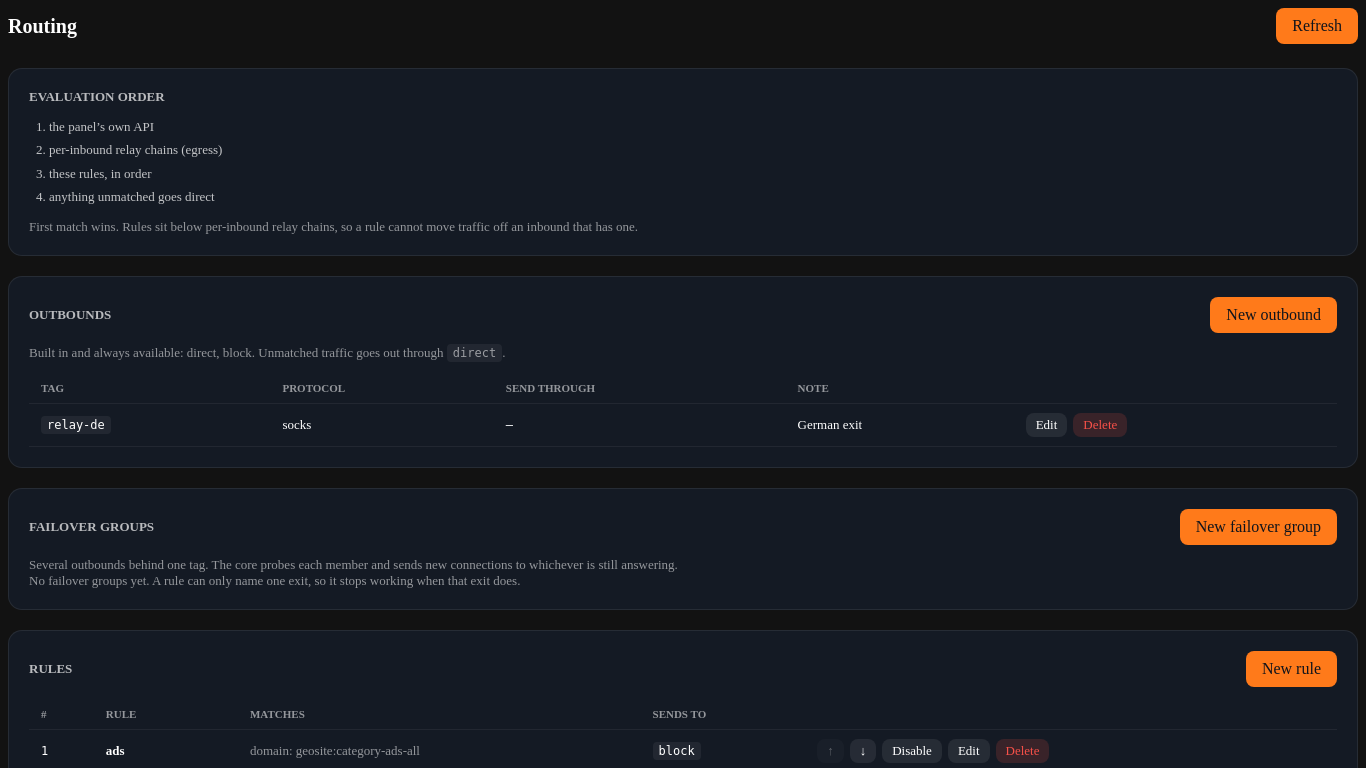
Scenario: RoutingView › refuses to save a rule with no conditions
The image size is (1366, 768).
Expected: the text "ads" is shown, [106,743,125,758]
Click the button with test id "new-rule".
click(1291, 669)  # box [1246,651,1337,687]
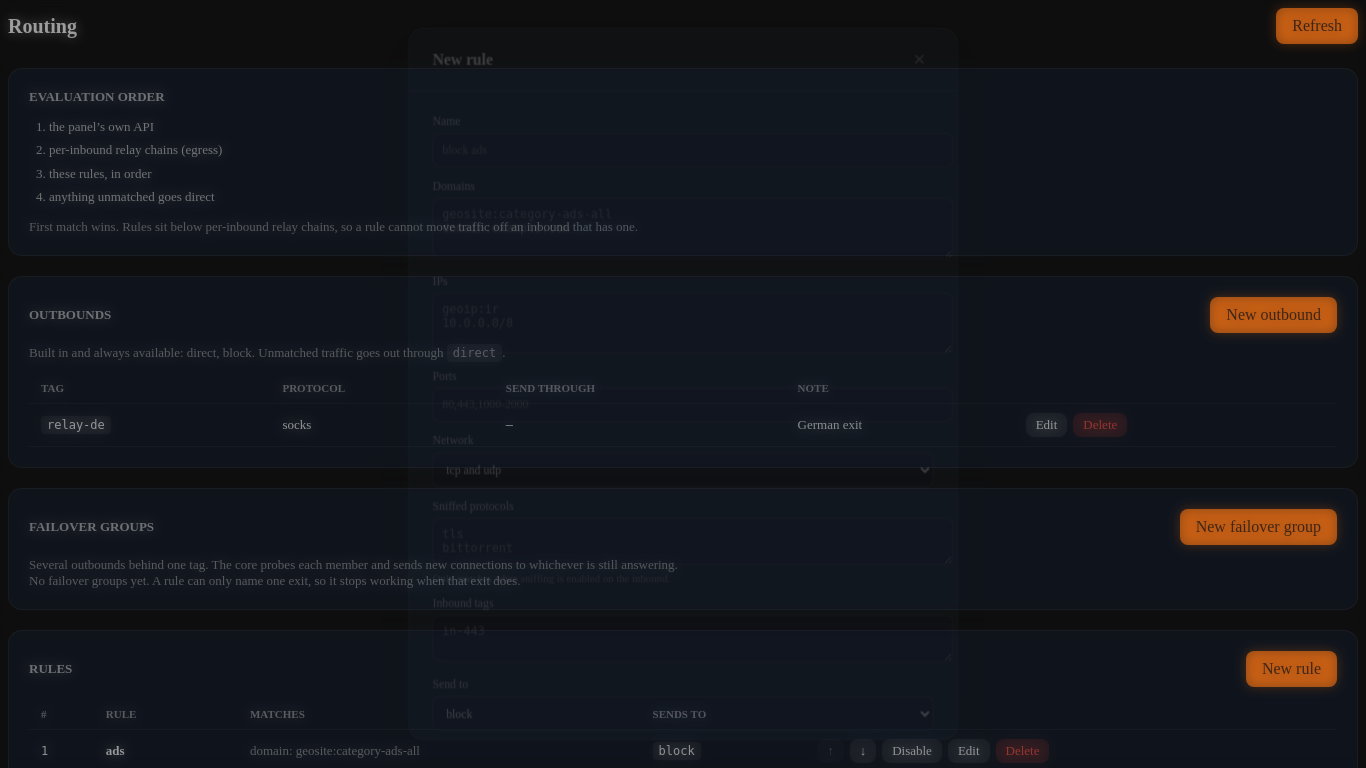
Type "example.com" into the text box with test id "rule-domain".
click(693, 225); type("example.com")  # box [427,194,959,256]
(page scrolled)
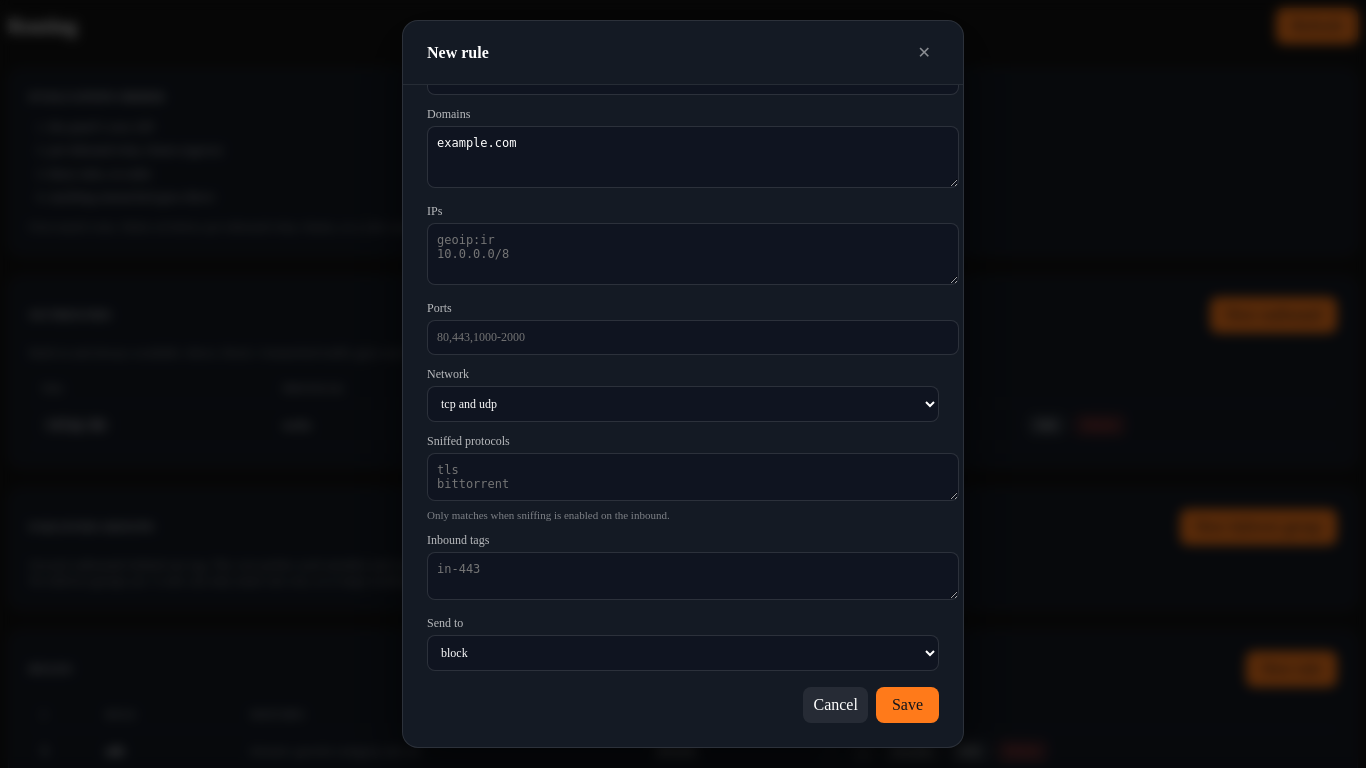
Expected: the button with test id "save-rule" is enabled, [876,687,939,723]
